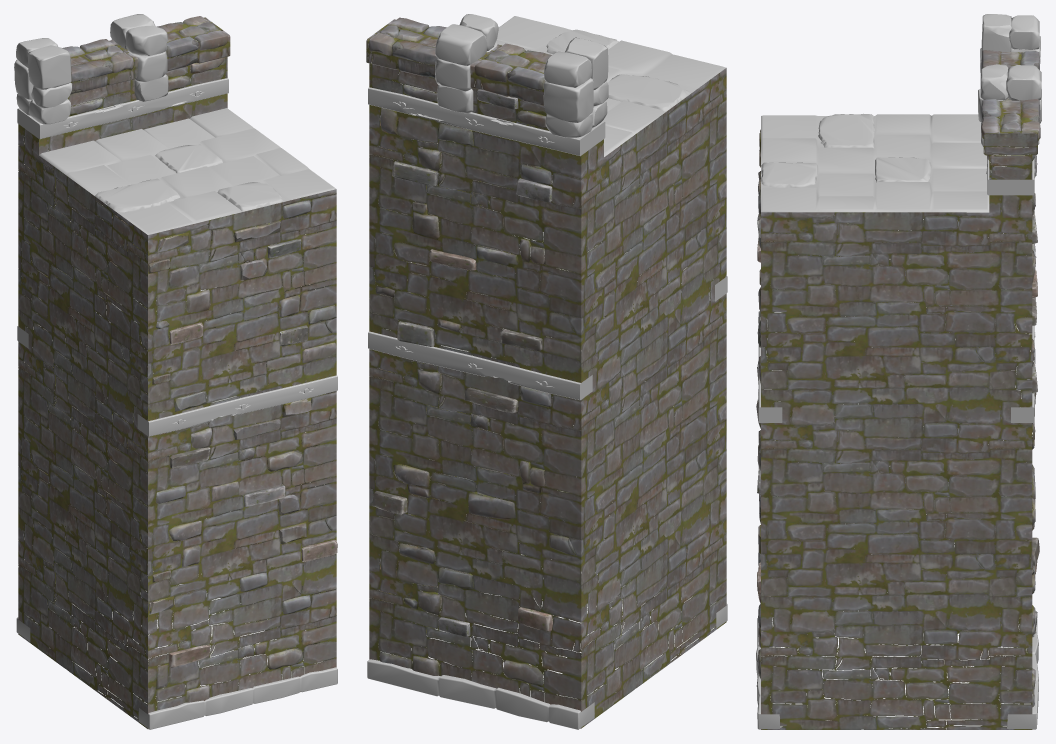
3 renders of one model, left to right at view 1: azimuth 30°, elevation 25°; view 2: azimuth 150°, elevation 25°; view 3: azimuth 270°, elevation 25°, orthographic. The views are drawn at different scales.
Visible parts, largest first — view 1: SM_Castle_Wall_4x12_01_v4_LOD0; view 2: SM_Castle_Wall_4x12_01_v4_LOD0; view 3: SM_Castle_Wall_4x12_01_v4_LOD0.
Boxes of the visible parts, box(x1,y1,x2,y2) form: SM_Castle_Wall_4x12_01_v4_LOD0: box(14, 14, 337, 729); SM_Castle_Wall_4x12_01_v4_LOD0: box(366, 14, 727, 729); SM_Castle_Wall_4x12_01_v4_LOD0: box(756, 14, 1041, 729).
Bounding box in the file's own units: 4.03 × 12 × 5.01.
